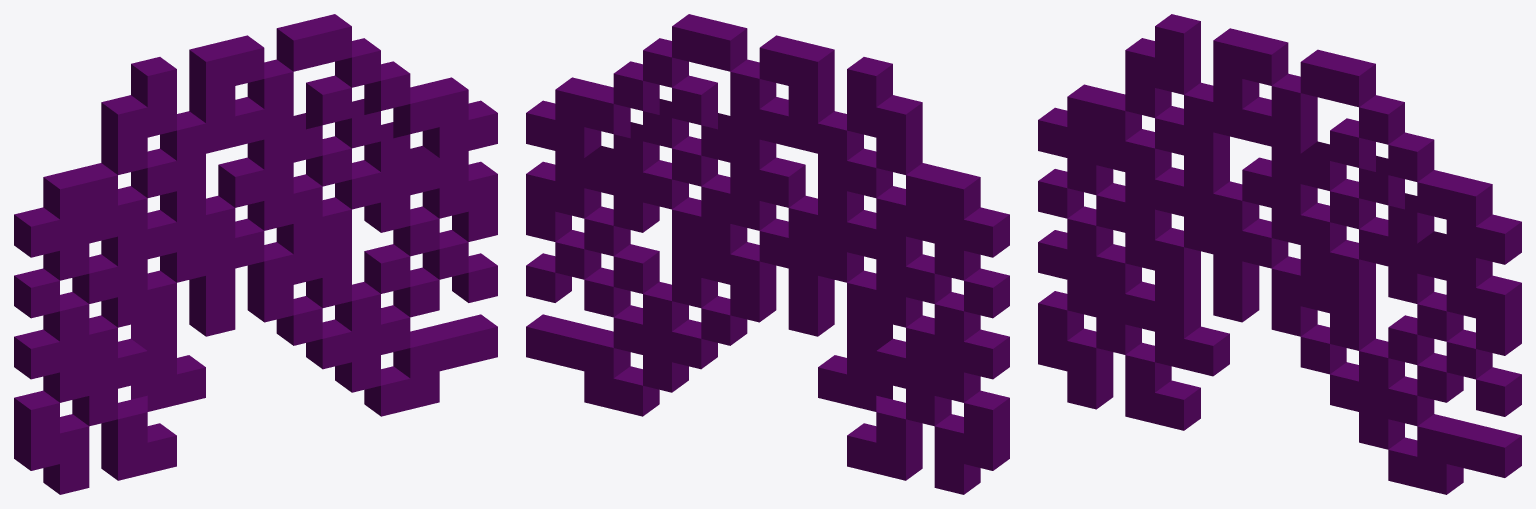
File: invader_base_3.obj
The picture shows the model from 3 angles, left to right: view 1: azimuth 30°, elevation 25°; view 2: azimuth 150°, elevation 25°; view 3: azimuth 330°, elevation 25°; orthographic projection.
Parts seen in each view (by area): view 1: Cube; view 2: Cube; view 3: Cube.
Boxes of the visible parts, x1,y1,x2,y2 form: Cube: (14, 14, 497, 494); Cube: (526, 14, 1009, 494); Cube: (1038, 14, 1521, 494).
Bounding box in the file's own units: 16 × 13.01 × 1.
